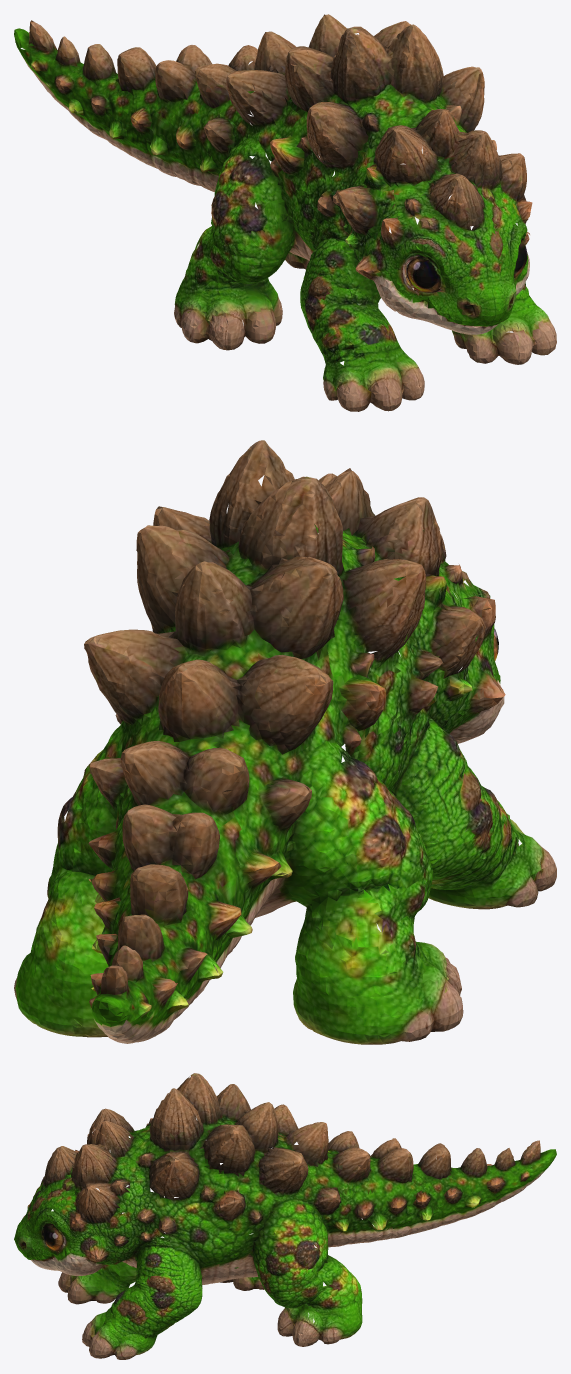
The model's file is terranox.glb.
3 views of the same model, one above another, from view 1: azimuth 30°, elevation 25°; view 2: azimuth 150°, elevation 25°; view 3: azimuth 270°, elevation 25° (orthographic). The views are drawn at different scales.
Parts seen in each view (by area): view 1: plush; view 2: plush; view 3: plush.
Part boxes in pixels (bbox=[...]): plush: bbox=[14, 14, 556, 411]; plush: bbox=[14, 440, 556, 1044]; plush: bbox=[14, 1073, 556, 1359].
Bounding box in the file's own units: 0.4412 × 0.4725 × 0.9783.
Materials: 1 (1 with a texture image).
